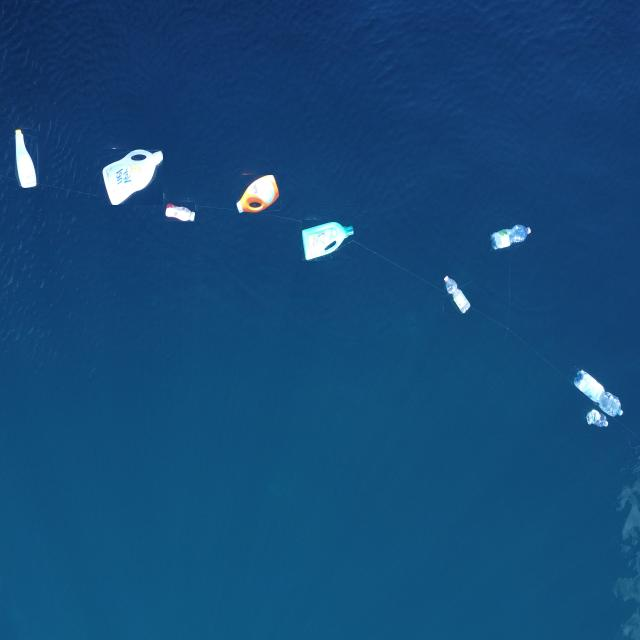bottles: (100, 149, 162, 205), (573, 369, 623, 418), (302, 220, 354, 261), (236, 175, 280, 214), (15, 129, 37, 188), (490, 223, 532, 251), (444, 275, 471, 314), (165, 202, 195, 222), (585, 408, 608, 428)
